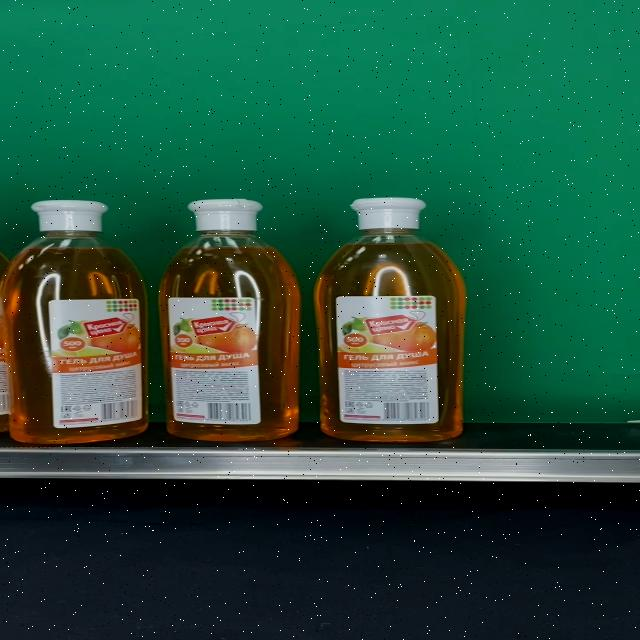Bottle: (314, 198, 466, 442), (3, 201, 148, 445), (158, 200, 301, 442)
Cap: (187, 199, 264, 232), (351, 198, 427, 230), (31, 201, 107, 232)
